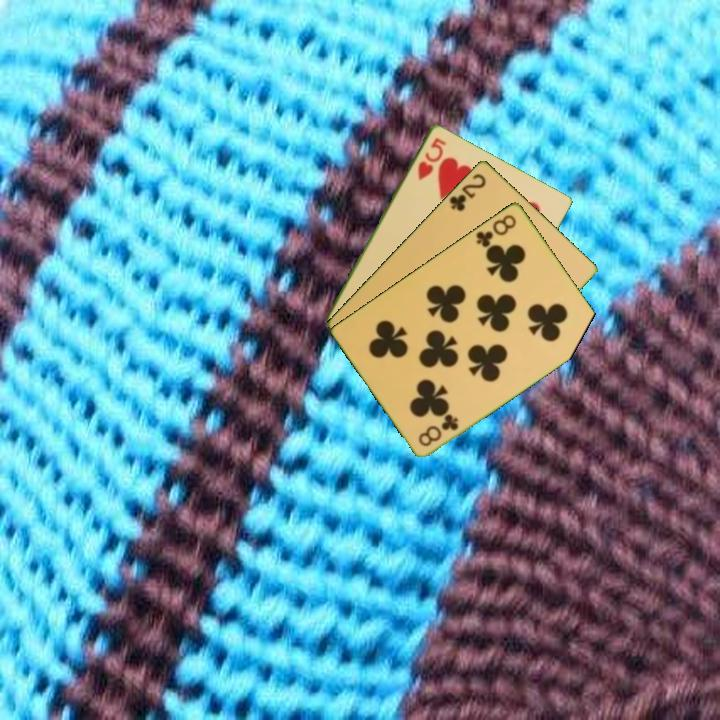2c: (446, 169, 489, 214)
5h: (414, 134, 449, 183)
8c: (472, 210, 519, 250), (415, 410, 462, 449)
